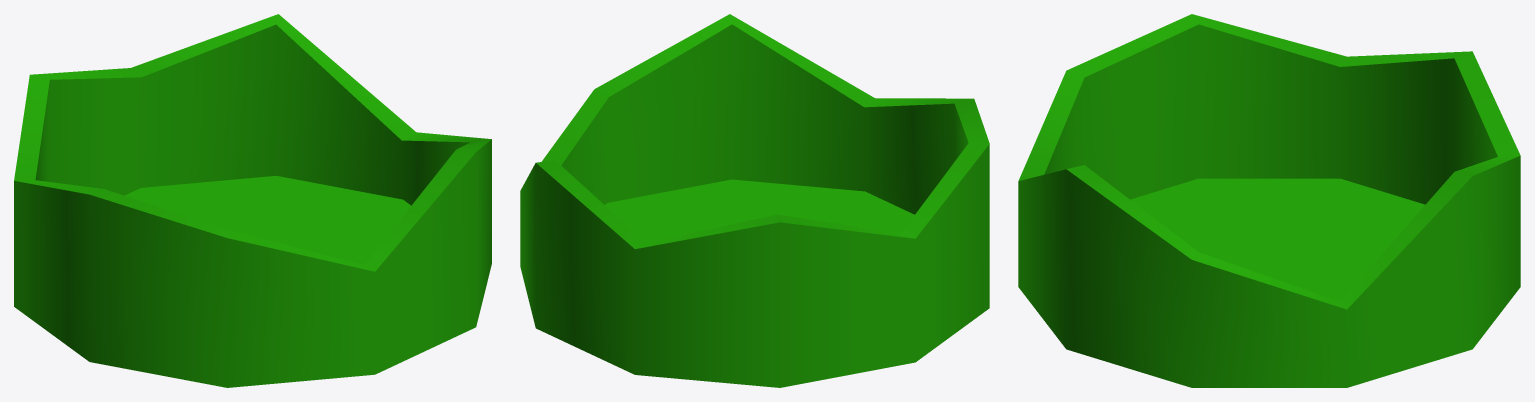
Rendered from BrokenWineBottleBottomVar2.fbx.
3 views of the same model, side by side, from view 1: azimuth 30°, elevation 25°; view 2: azimuth 150°, elevation 25°; view 3: azimuth 270°, elevation 25° (orthographic). The views are drawn at different scales.
Parts seen in each view (by area): view 1: BrokenWineBottleBottomVar2; view 2: BrokenWineBottleBottomVar2; view 3: BrokenWineBottleBottomVar2.
Boxes of the visible parts, box(x1,y1,x2,y2) form: BrokenWineBottleBottomVar2: box(14, 14, 491, 387); BrokenWineBottleBottomVar2: box(520, 14, 989, 387); BrokenWineBottleBottomVar2: box(1018, 14, 1520, 387).
Bounding box in the file's own units: 23.75 × 9.88 × 24.97.
